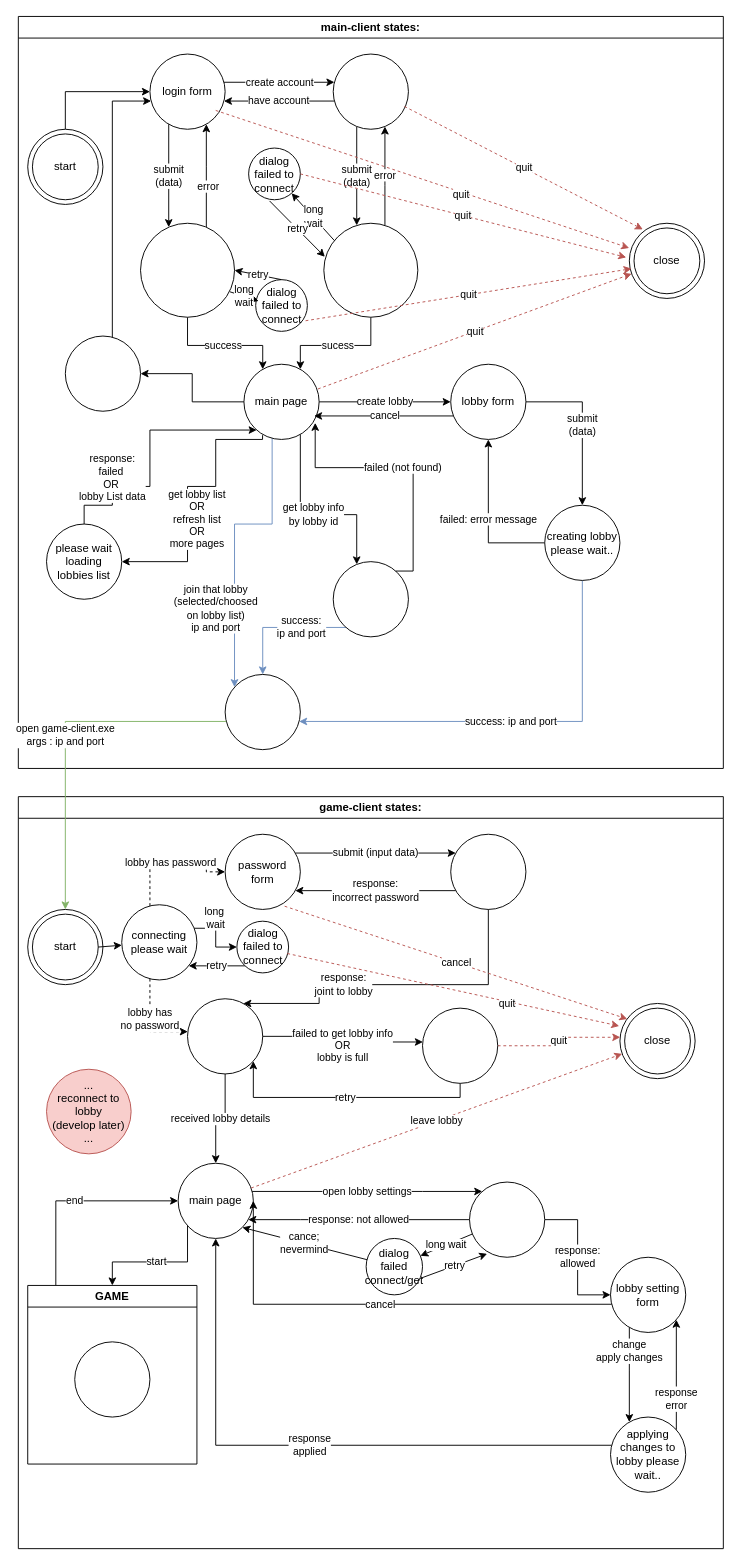
The diagram is 740 pixels wide and 1565 high, and some of its shapes have lost their labels. Each missing label, with the centre of its shape:
"checking password please wait.." goes at (x=488, y=871).
"creating account 1.connecting.. 2.connected, please wait.." goes at (x=370, y=269).
"dialog failed to get lobby info" goes at (x=460, y=1045).
"Game Mode" goes at (x=112, y=1379).
"join lobby wait.." goes at (x=262, y=712).
"loading lobby info/details" goes at (x=225, y=1036).
"loading lobby settings" goes at (x=507, y=1219).
"login to %username% 1.connecting.. 2.connected, please wait.." goes at (x=187, y=269).
"logout" goes at (x=102, y=373).
"please wait receiving lobby info" goes at (x=370, y=599).
"register form" goes at (x=370, y=91).
